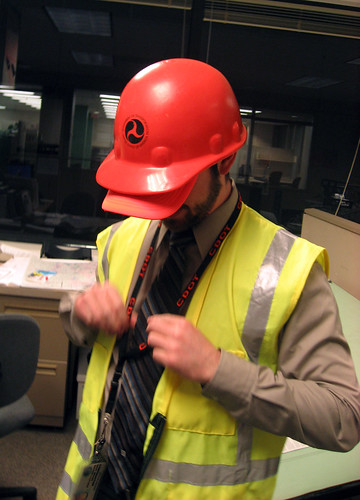person hardhat: (66, 56, 355, 500)
